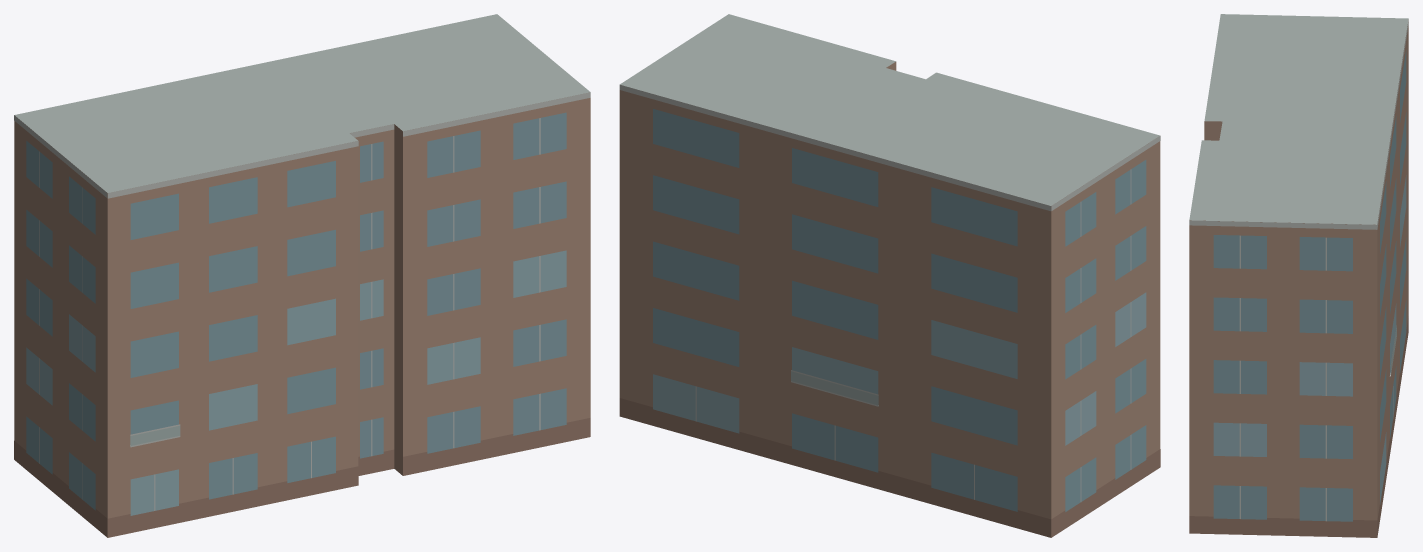
The model's file is survey-upis-32625844.glb.
3 renders of one model, left to right at view 1: azimuth 30°, elevation 25°; view 2: azimuth 150°, elevation 25°; view 3: azimuth 270°, elevation 25°, orthographic. The views are drawn at different scales.
Visible parts, largest first — view 1: survey-upis-32625844.tmp; view 2: survey-upis-32625844.tmp; view 3: survey-upis-32625844.tmp.
Part boxes in pixels (x1,y1,x2,y2): survey-upis-32625844.tmp: [14, 14, 590, 537]; survey-upis-32625844.tmp: [619, 14, 1160, 537]; survey-upis-32625844.tmp: [1189, 14, 1408, 537].
Bounding box in the file's own units: 22.03 × 15.25 × 9.69.
